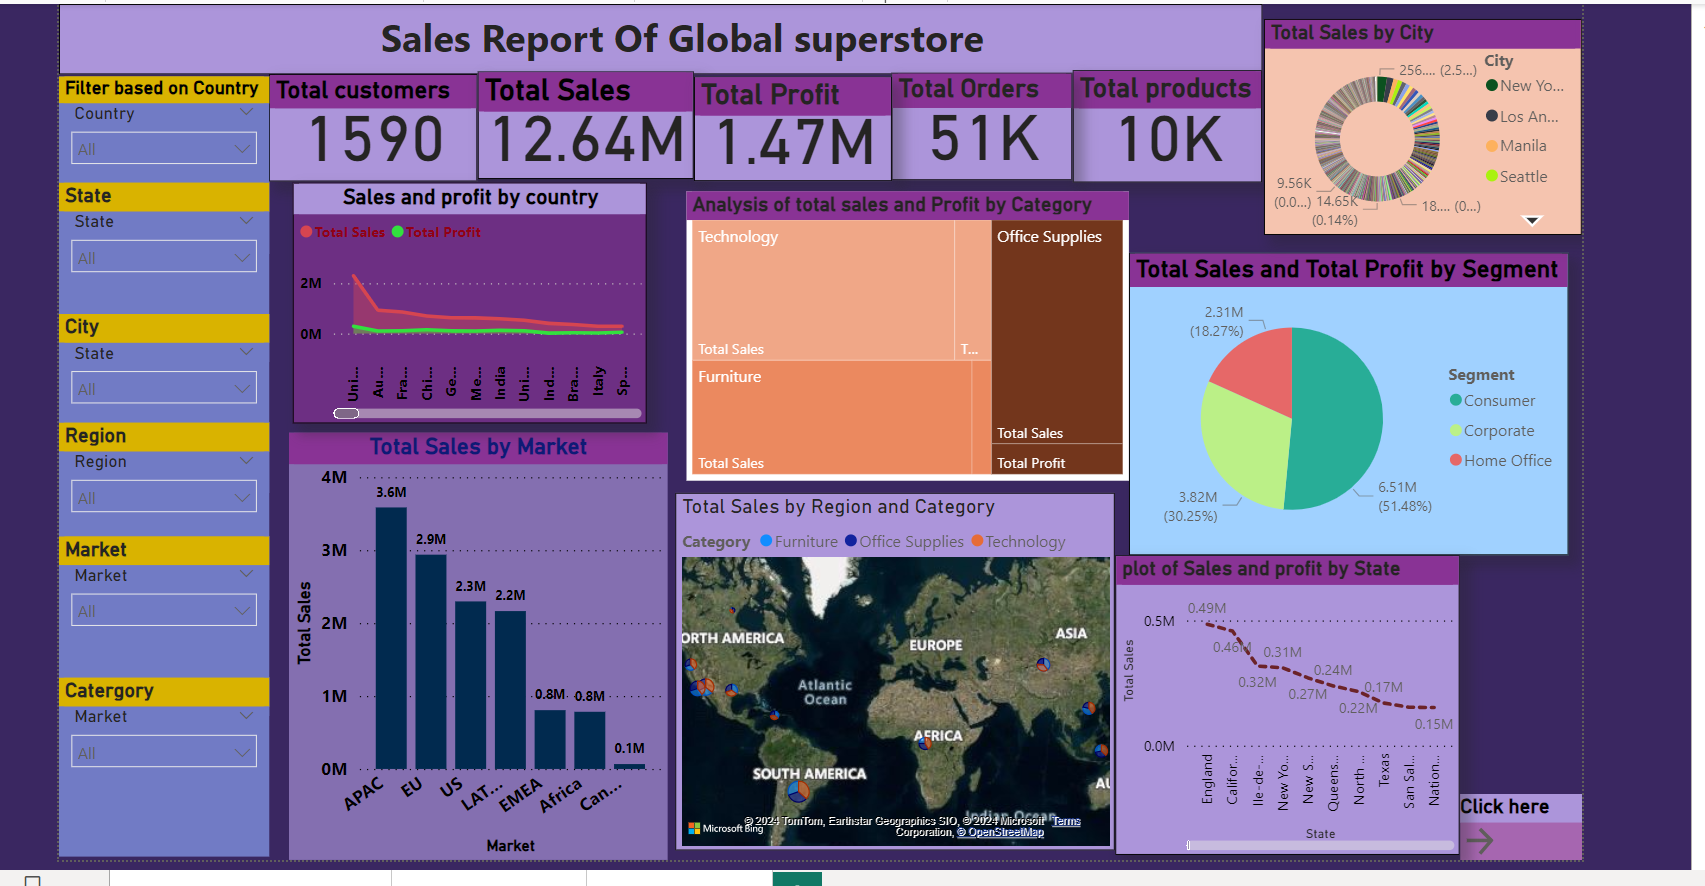

The page's visual inventory and layout, read from the dashboard file:
{"tool":"powerbi","page":{"name":"Sales over city,state,region,market","canvas":[1280,720],"ordinal":0},"visuals":[{"type":"textbox","box":[0,0,1012.1,59.3],"z":0},{"type":"card","title":"Total customers","fields":{"Values":["Orders.Total Customers"]},"box":[176.7,55.8,175.6,90.7],"z":1000},{"type":"card","title":"Total Sales","fields":{"Values":["Orders.Total Sales"]},"box":[352.3,57,181.4,90.7],"z":2000},{"type":"card","title":"Total products","fields":{"Values":["Orders.Total Products"]},"box":[852.3,55.8,159.3,94.2],"z":3000},{"type":"card","title":"Total Orders","fields":{"Values":["Orders.Total Orders"]},"box":[700,58.1,152.3,90.7],"z":4000},{"type":"card","title":"Total Profit","fields":{"Values":["Orders.Total Profit"]},"box":[533.7,60.5,166.3,88.4],"z":5000},{"type":"map","fields":{"Category":["Orders.Region"],"Series":["Orders.Category"],"Size":["Orders.Total Sales"]},"box":[518.6,410.5,369.8,301.2],"z":6000},{"type":"actionButton","title":"Click here","box":[1177.9,664,102.3,55.8],"z":7000},{"type":"slicer","title":"Filter based on Country","fields":{"Values":["Orders.Country"]},"box":[0,60.5,176.7,148.8],"z":8000},{"type":"slicer","title":"State","fields":{"Values":["Orders.State"]},"box":[0,150,176.7,150],"z":9000},{"type":"slicer","title":"City","fields":{"Values":["Orders.State"]},"box":[0,260.5,176.7,150],"z":10000},{"type":"slicer","title":"Region","fields":{"Values":["Orders.Region"]},"box":[0,352.3,176.7,148.8],"z":11000},{"type":"slicer","title":"Market","fields":{"Values":["Orders.Market"]},"box":[0,447.7,176.7,150],"z":12000},{"type":"slicer","title":"Catergory","fields":{"Values":["Orders.Market"]},"box":[0,566.3,176.7,150],"z":13000},{"type":"columnChart","fields":{"Y":["Orders.Total Sales"],"Category":["Orders.Market"]},"box":[193,418.6,318.6,301.2],"z":14000},{"type":"pieChart","fields":{"Category":["Orders.Segment"],"Y":["Orders.Total Sales"]},"box":[900,209.3,369.8,254.7],"z":15000},{"type":"lineChart","title":"plot of Sales and profit by State","fields":{"Category":["Orders.State"],"Y":["Orders.Total Sales"]},"box":[888.4,464,289.5,252.3],"z":16000},{"type":"treemap","title":"Analysis of total sales and Profit by Category","fields":{"Group":["Orders.Category"],"Values":["Orders.Total Sales","Orders.Total Profit"]},"box":[527.9,158.1,372.1,243],"z":17000},{"type":"areaChart","title":"Sales and profit by country","fields":{"Category":["Orders.Country"],"Y":["Orders.Total Sales","Orders.Total Profit"]},"box":[196.5,150,315.1,260.5],"z":18000},{"type":"donutChart","fields":{"Category":["Orders.City"],"Y":["Orders.Total Sales"]},"box":[1012.8,12.8,267.4,181.4],"z":19000}]}

Visuals, with their boxes on the page's 1280x720 design canvas (x1, y1, x2, y2). These are canvas units, not pixel positions in the 1705x886 screenshot, which may show the page scaled, cropped or inside an application window:
textbox: bbox(0, 0, 1012, 59)
"Total customers" card: bbox(177, 56, 352, 146)
"Total Sales" card: bbox(352, 57, 534, 148)
"Total products" card: bbox(852, 56, 1012, 150)
"Total Orders" card: bbox(700, 58, 852, 149)
"Total Profit" card: bbox(534, 60, 700, 149)
map - Orders.Region x Orders.Category: bbox(519, 410, 888, 712)
"Click here" actionButton: bbox(1178, 664, 1280, 720)
"Filter based on Country" slicer: bbox(0, 60, 177, 209)
"State" slicer: bbox(0, 150, 177, 300)
"City" slicer: bbox(0, 260, 177, 410)
"Region" slicer: bbox(0, 352, 177, 501)
"Market" slicer: bbox(0, 448, 177, 598)
"Catergory" slicer: bbox(0, 566, 177, 716)
columnChart - Orders.Total Sales x Orders.Market: bbox(193, 419, 512, 720)
pieChart - Orders.Segment x Orders.Total Sales: bbox(900, 209, 1270, 464)
"plot of Sales and profit by State" lineChart: bbox(888, 464, 1178, 716)
"Analysis of total sales and Profit by Category" treemap: bbox(528, 158, 900, 401)
"Sales and profit by country" areaChart: bbox(196, 150, 512, 410)
donutChart - Orders.City x Orders.Total Sales: bbox(1013, 13, 1280, 194)
